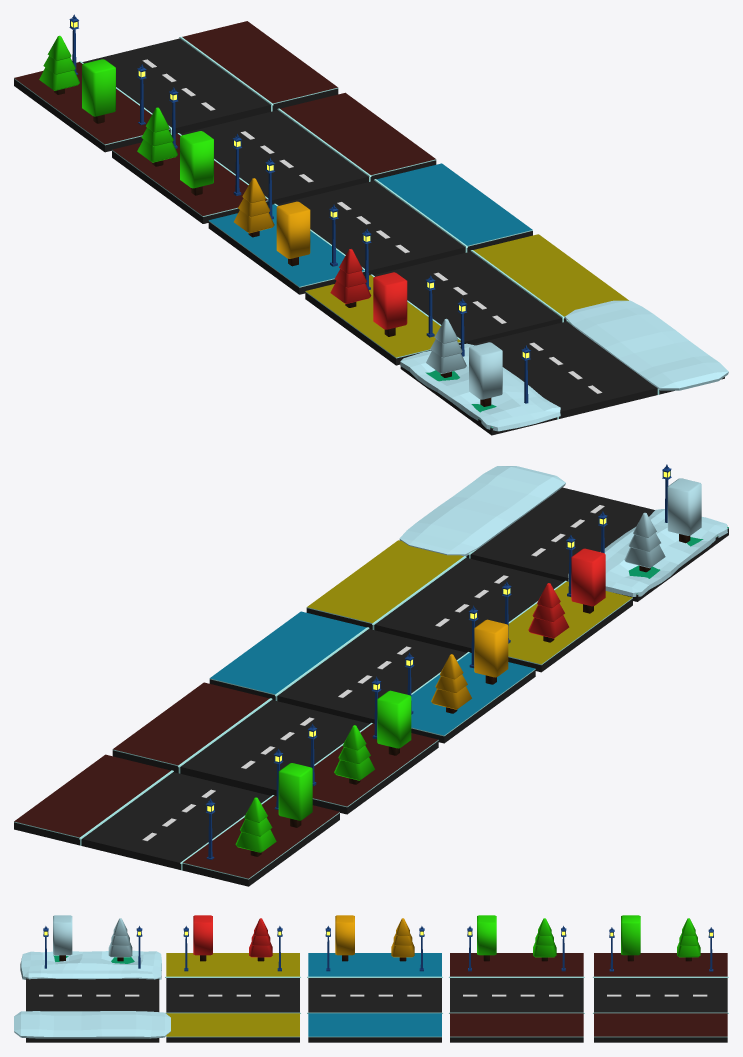
Rendered from road_cartoon.fbx.
3 renders of one model, top to bottom at view 1: azimuth 30°, elevation 25°; view 2: azimuth 150°, elevation 25°; view 3: azimuth 270°, elevation 25°, orthographic. The views are drawn at different scales.
Parts seen in each view (by area): view 1: Cube.008, Cube.005, Cube.004, Cube.006, Cube, Cube.002, Cube.003; view 2: Cube.008, Cube.004, Cube.005, Cube.006, Cube, Cube.002, Cube.003; view 3: Cube.008, Cube.004, Cube.005, Cube.006, Cube, Cube.002, Cube.003.
Part boxes in pixels (box(x1,y1,x2,y2)): Cube.008: box(400, 298, 728, 435); Cube.005: box(208, 158, 532, 294); Cube.004: box(112, 87, 436, 223); Cube.006: box(305, 229, 628, 365); Cube: box(14, 21, 338, 152); Cube.002: box(82, 59, 115, 123); Cube.003: box(39, 35, 79, 94); Cube.008: box(399, 464, 728, 601); Cube.004: box(112, 676, 438, 814); Cube.005: box(209, 605, 535, 743); Cube.006: box(306, 535, 632, 672); Cube: box(14, 754, 339, 886); Cube.002: box(278, 763, 312, 827); Cube.003: box(235, 797, 276, 856); Cube.008: box(14, 915, 170, 1042); Cube.004: box(449, 915, 584, 1042); Cube.005: box(307, 915, 442, 1042); Cube.006: box(165, 915, 300, 1042); Cube: box(593, 953, 728, 1042); Cube.002: box(621, 915, 640, 961); Cube.003: box(677, 918, 700, 961).
Size of the model in its own units: 2382 by 656 by 8367.
